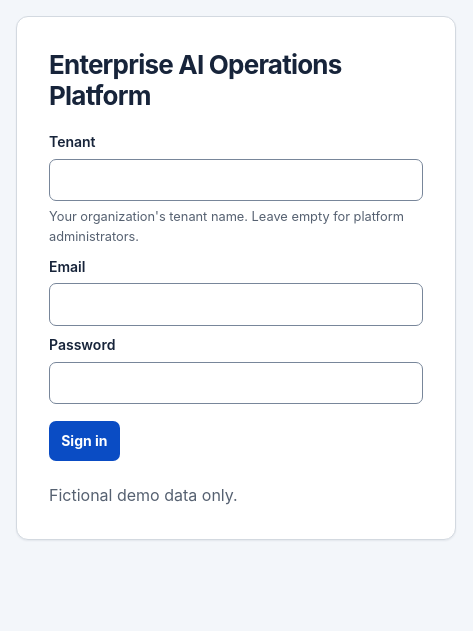
Scenario: LoginPage › shows the server's error for bad credentials and a throttle hint for 429
This screenshot has width=473, height=631.
In the field labelled "Email": (236, 304) [49,283,423,326], type "a@b.co"
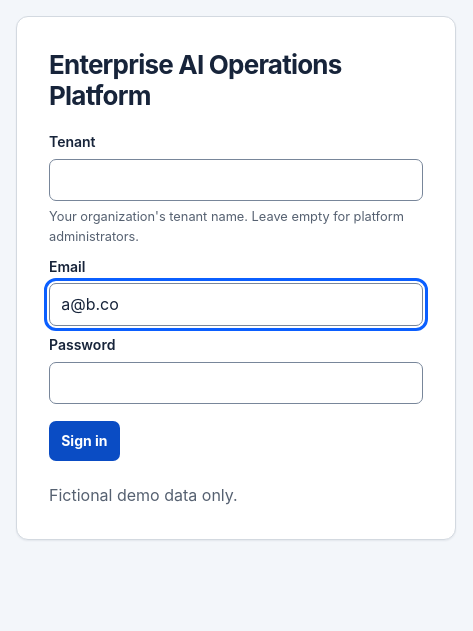
In the password field labelled "Password": (236, 383) [49,362,423,404], type "pw"
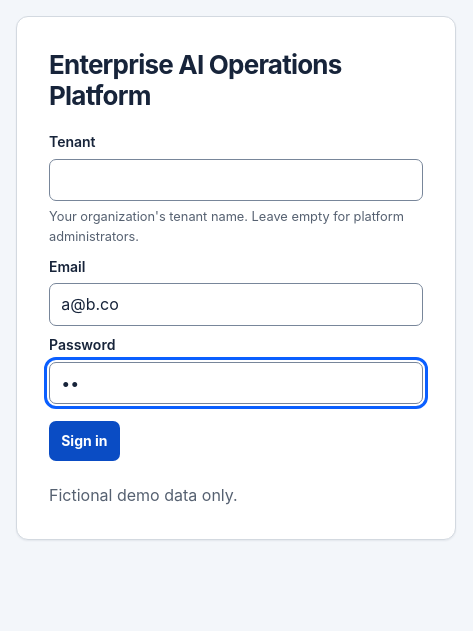
Click the button "Sign in": (84, 441) [49,421,120,461]
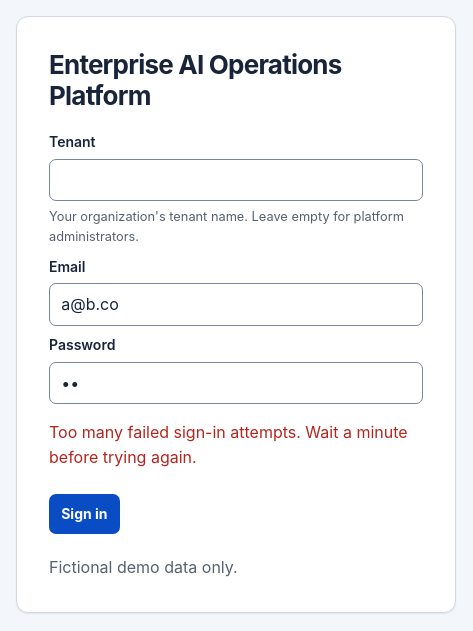
Expected: the message reads "Too many failed sign-in attempts. Wait a minute before trying again.", [49,422,408,467]
